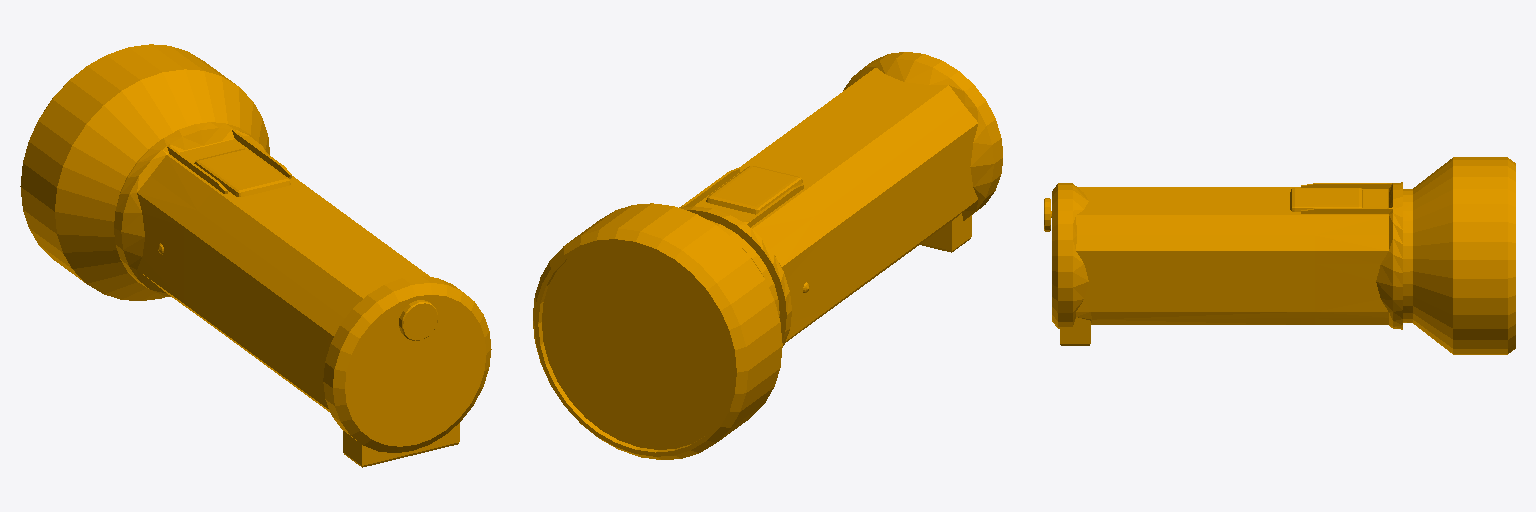
The robot description file, URDF, robot "flashlight":
<?xml version="1.0"?>
<robot name="flashlight">
  <link name="flashlight">
    <visual>
      <origin xyz="0.0 0.0 0.0"/>
      <geometry>
        <mesh filename="flashlight.obj" scale="0.7 0.7 0.7"/>
      </geometry>
    </visual>
    <collision>
      <origin xyz="0.0 0.0 0.0"/>
      <geometry>
        <mesh filename="flashlight.obj" scale="0.7 0.7 0.7"/>
      </geometry>
    </collision>
    <inertial>
      <mass value="0.3"/>
      <inertia ixx="0.0001" ixy="0.0" ixz="0.0" iyy="0.0001" iyz="0.0" izz="0.0001"/>
    </inertial>
  </link>
</robot>

--- What the picture shows (computed from the rendered views, not written in the file) ---
3 views of the same robot in one strip: view 1: azimuth 30°, elevation 25°; view 2: azimuth 150°, elevation 25°; view 3: azimuth 270°, elevation 25° (orthographic).
Model flashlight with 1 links and 0 joints (none), rooted at flashlight, posed all joints at 0.
Links seen in each view (by area): view 1: flashlight; view 2: flashlight; view 3: flashlight.
Link boxes in pixels (box(x1,y1,x2,y2)): flashlight: box(20, 44, 491, 467); flashlight: box(533, 52, 1002, 459); flashlight: box(1044, 157, 1515, 354).
Bounding box of the posed robot: 0.072 × 0.1714 × 0.072 m (x, y, z).
1 mesh visuals loaded from 1 distinct referenced files (1 OBJ).